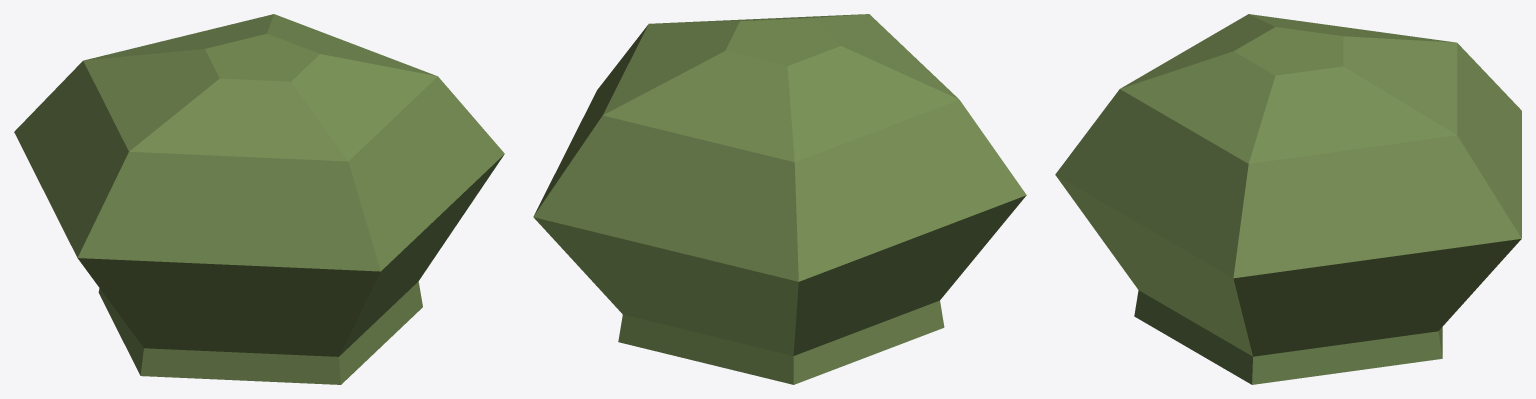
Rendered from cactus1.fbx.
3 views of the same model, side by side, from view 1: azimuth 30°, elevation 25°; view 2: azimuth 150°, elevation 25°; view 3: azimuth 270°, elevation 25° (orthographic).
Parts seen in each view (by area): view 1: cactus1; view 2: cactus1; view 3: cactus1.
Boxes of the visible parts, bbox=[...] form: cactus1: bbox=[14, 14, 504, 384]; cactus1: bbox=[533, 14, 1026, 384]; cactus1: bbox=[1055, 14, 1521, 384].
Bounding box in the file's own units: 2.96 × 1.76 × 2.81.
